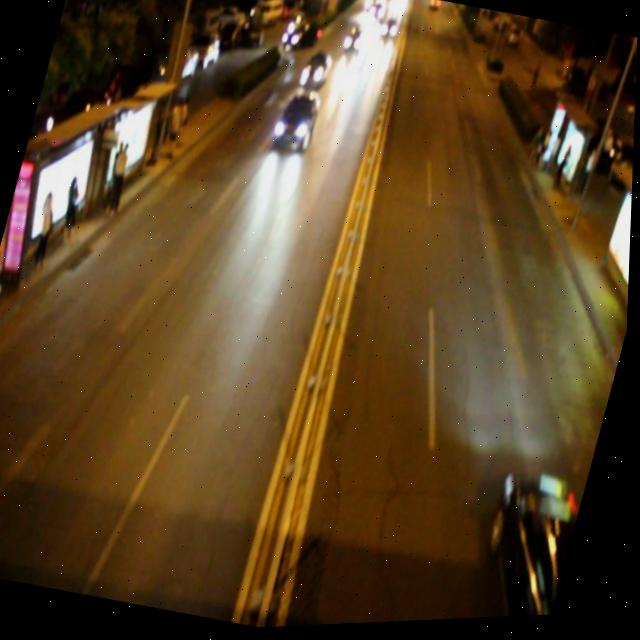car: (463, 467, 591, 623), (272, 84, 325, 156), (298, 44, 336, 94)
